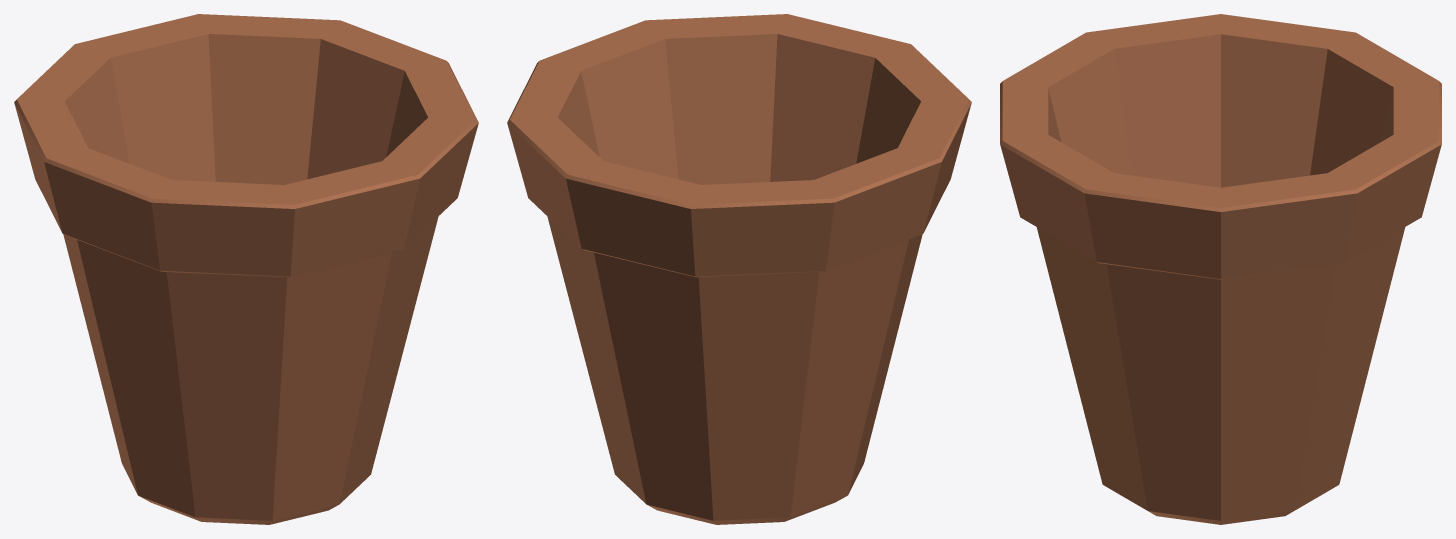
Rendered from Pot.fbx.
3 views of the same model, side by side, from view 1: azimuth 30°, elevation 25°; view 2: azimuth 150°, elevation 25°; view 3: azimuth 270°, elevation 25° (orthographic).
Visible parts, largest first — view 1: pCylinder2; view 2: pCylinder2; view 3: pCylinder2.
Part boxes in pixels (left/top/right/bottom): pCylinder2: left=14, top=14, right=478, bottom=524; pCylinder2: left=507, top=14, right=971, bottom=524; pCylinder2: left=1000, top=14, right=1441, bottom=524.
Bounding box in the file's own units: 40.53 × 35.4 × 38.55.
